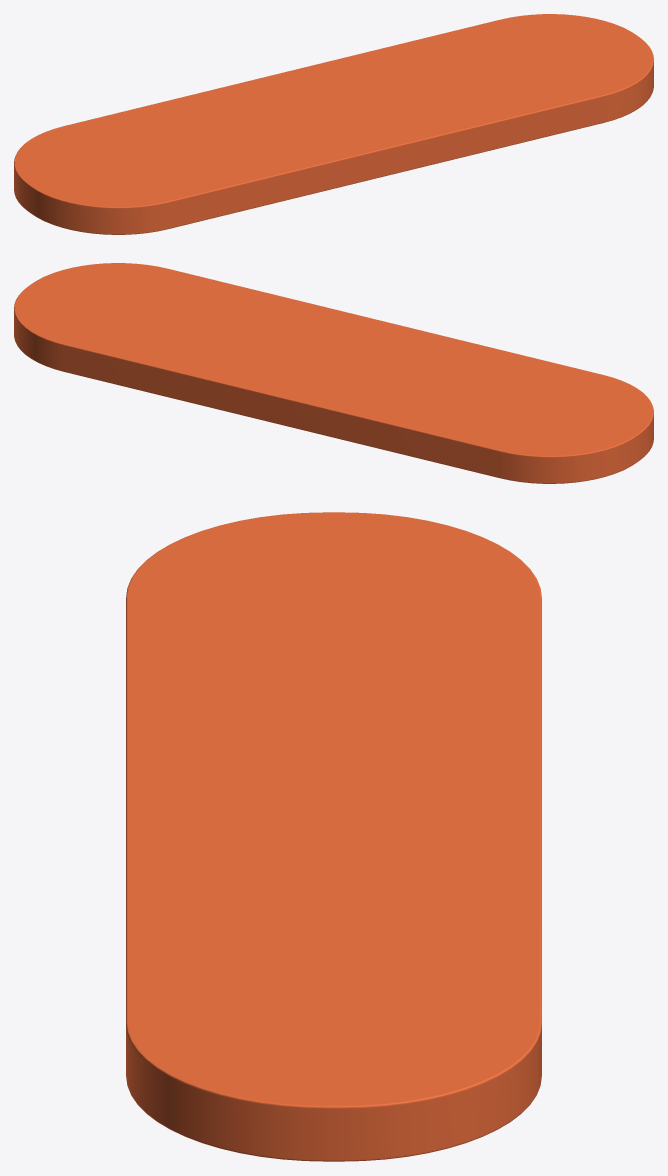
Rendered from label.glb.
3 renders of one model, top to bottom at view 1: azimuth 30°, elevation 25°; view 2: azimuth 150°, elevation 25°; view 3: azimuth 270°, elevation 25°, orthographic. The views are drawn at different scales.
Parts seen in each view (by area): view 1: Cube.001; view 2: Cube.001; view 3: Cube.001.
Part boxes in pixels (left/top/right/bottom): Cube.001: left=14, top=14, right=653, bottom=234; Cube.001: left=14, top=263, right=653, bottom=483; Cube.001: left=126, top=512, right=541, bottom=1161.
Size of the model in its own units: 2.26 by 0.0981 by 0.6674.
